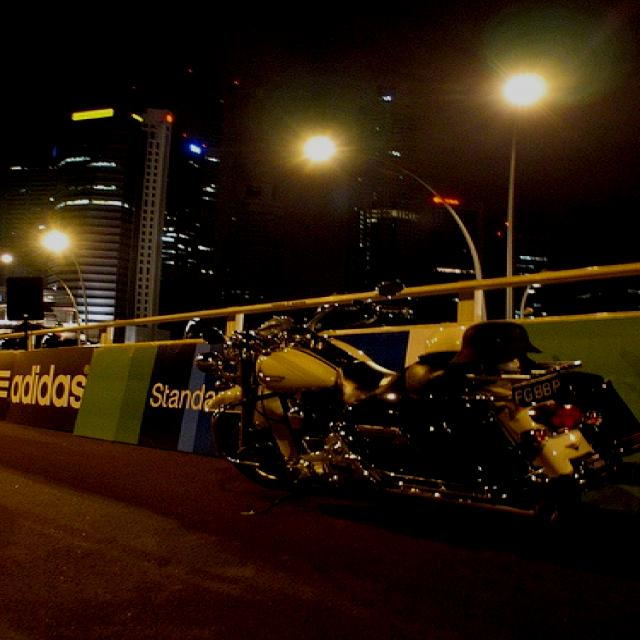Motorbike: (187, 279, 640, 526)
